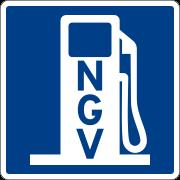Petrol Pump- Gas Station: (5, 2, 178, 177)
